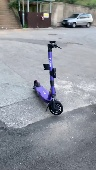beam: (31, 39, 70, 116)
